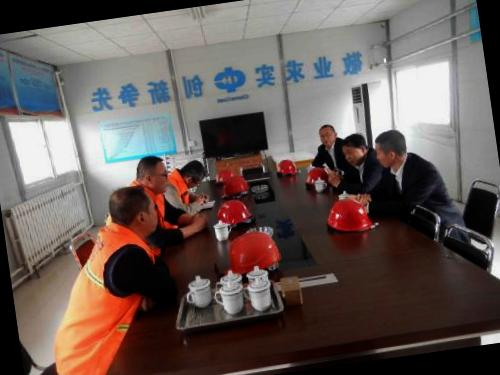no_helmet: (107, 178, 164, 240), (130, 149, 172, 201), (370, 124, 412, 174), (175, 152, 214, 198), (337, 126, 371, 170), (316, 122, 337, 146)
